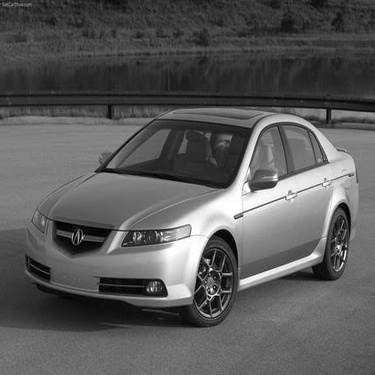car: (21, 102, 360, 309)
